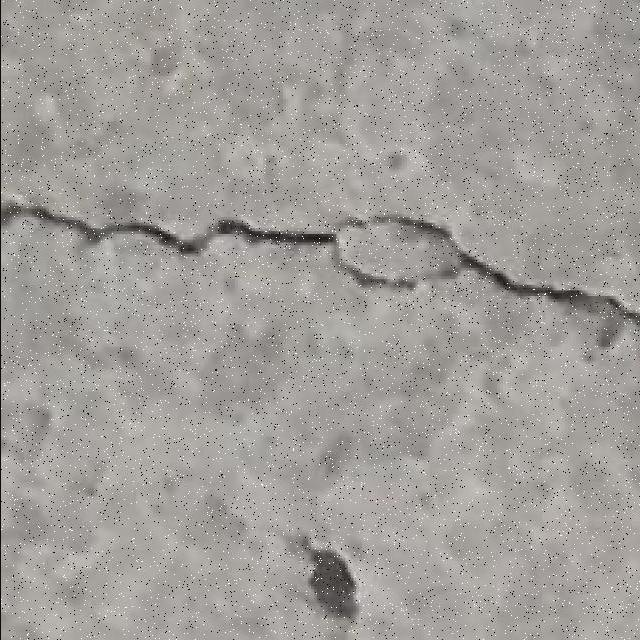crack: (2, 199, 638, 341), (9, 201, 350, 262), (6, 201, 120, 243)
